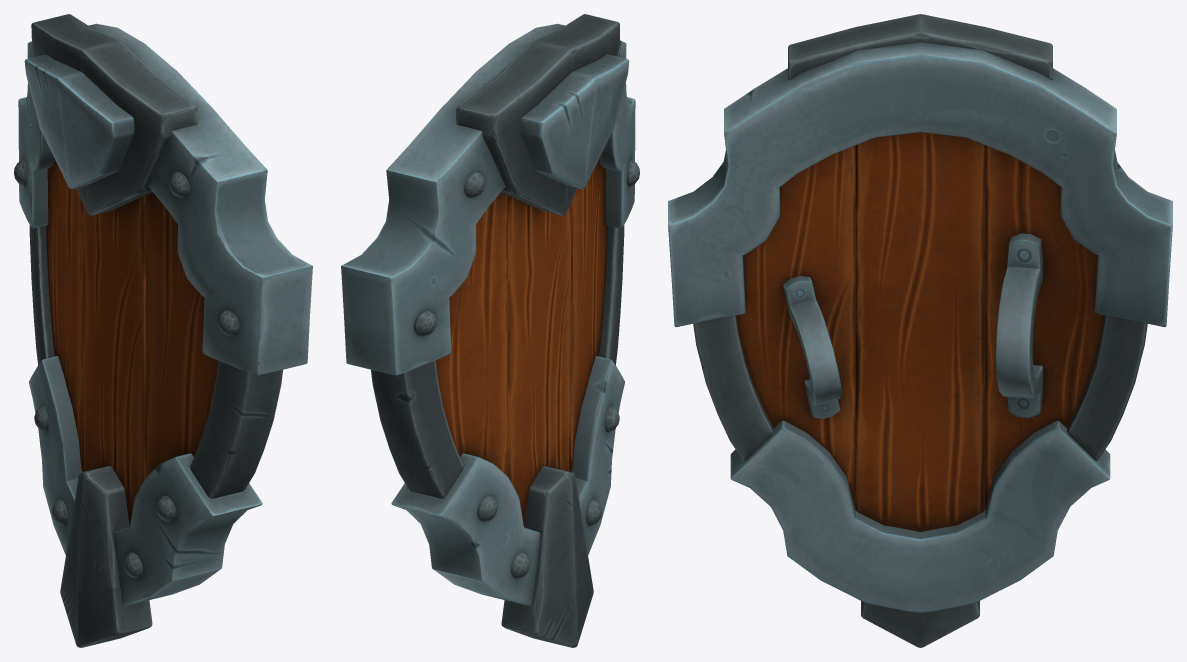
Rendered from shield.fbx.
The picture shows the model from 3 angles, left to right: view 1: azimuth 30°, elevation 25°; view 2: azimuth 150°, elevation 25°; view 3: azimuth 270°, elevation 25°; orthographic projection. The views are drawn at different scales.
Parts seen in each view (by area): view 1: Shield_low; view 2: Shield_low; view 3: Shield_low.
Boxes of the visible parts, <box> form: Shield_low: <box>14,14,312,647</box>; Shield_low: <box>341,14,639,647</box>; Shield_low: <box>668,14,1172,647</box>.
Bounding box in the file's own units: 0.2082 × 0.7752 × 0.5757.
